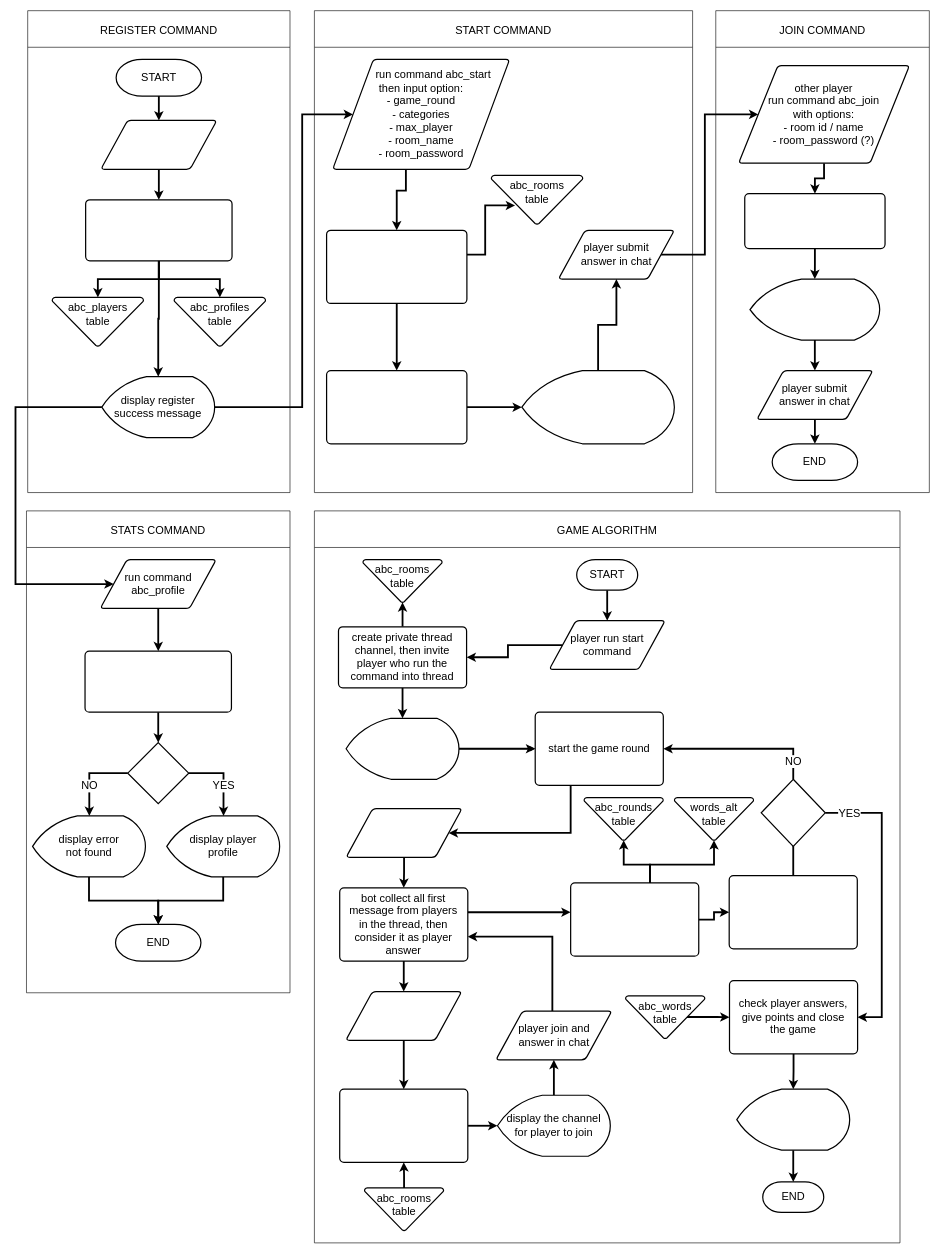
Some shapes in this 941 by 1254 pixel diagram are drawn without their labels. The centre of each missing label's shape, as x and y in pixels:
another player join the game: [403,1016]
check current round (CR) with game round (GR): [793,912]
CR == GR?: [793,812]
create a room (thread channel) for current game then implement the rules: [396,407]
display channel created message: [402,748]
display game result: [793,1119]
display game start, room (thread) and round created message: [598,407]
find the current running game then get the room id: [403,1125]
find the room id / name from abc_rooms table: [814,221]
FOUND?: [158,773]
get player id and the option values, then insert to abc_rooms: [396,266]
get player id and username, then insert to abc_players table: [158,230]
get player id then find it in abc_profiles table: [158,681]
insert data to abc_rounds & abc_words_alt (wrong answers): [634,919]
player type answer in chat: [403,833]
reply link to the game room (thread): [814,309]
run command abc_register: [158,145]
